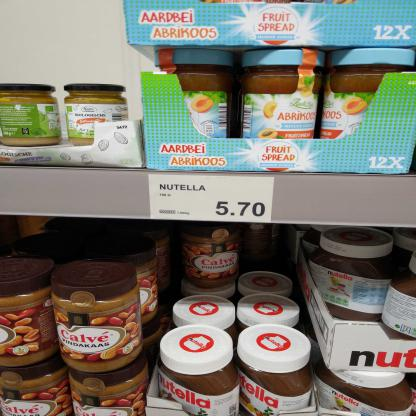prtg: (150, 176, 275, 223)
